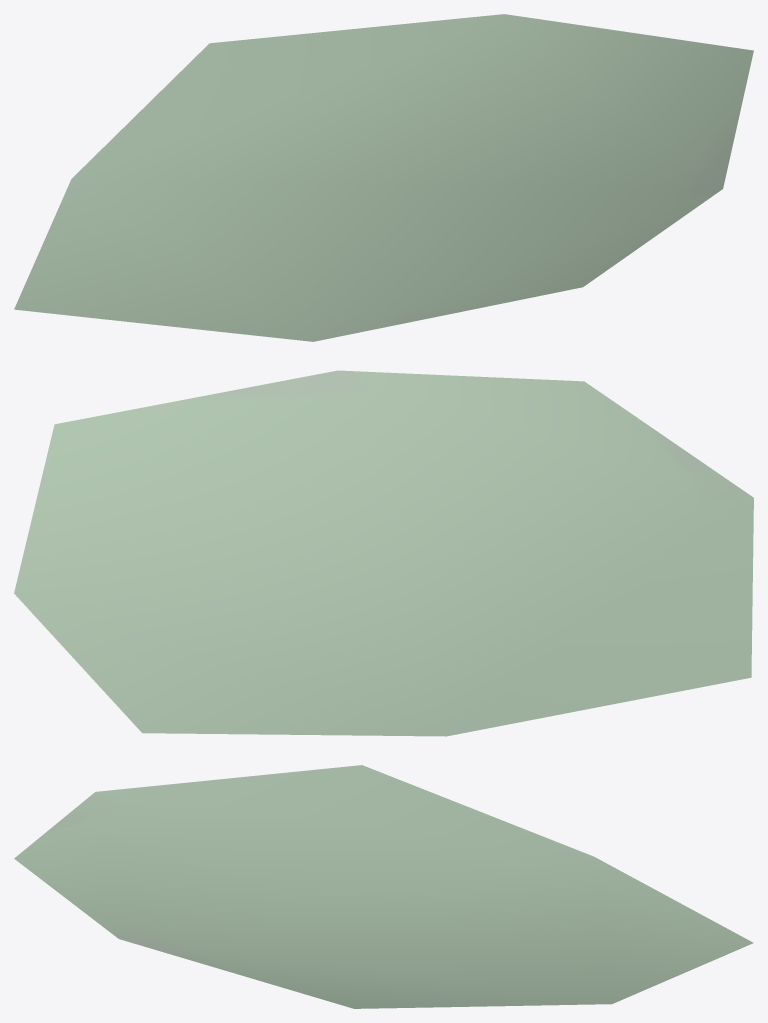
File: TROLLHOLE02_HOLECAP167.fbx
3 renders of one model, top to bottom at view 1: azimuth 30°, elevation 25°; view 2: azimuth 150°, elevation 25°; view 3: azimuth 270°, elevation 25°, orthographic. The views are drawn at different scales.
Parts seen in each view (by area): view 1: TROLLHOLE02_HOLECAP167; view 2: TROLLHOLE02_HOLECAP167; view 3: TROLLHOLE02_HOLECAP167.
Boxes of the visible parts, x1,y1,x2,y2 form: TROLLHOLE02_HOLECAP167: [14, 14, 753, 341]; TROLLHOLE02_HOLECAP167: [14, 370, 753, 736]; TROLLHOLE02_HOLECAP167: [14, 765, 753, 1008].
Size of the model in its own units: 42173 by 5179 by 41580.
1 material, 1 textured.
